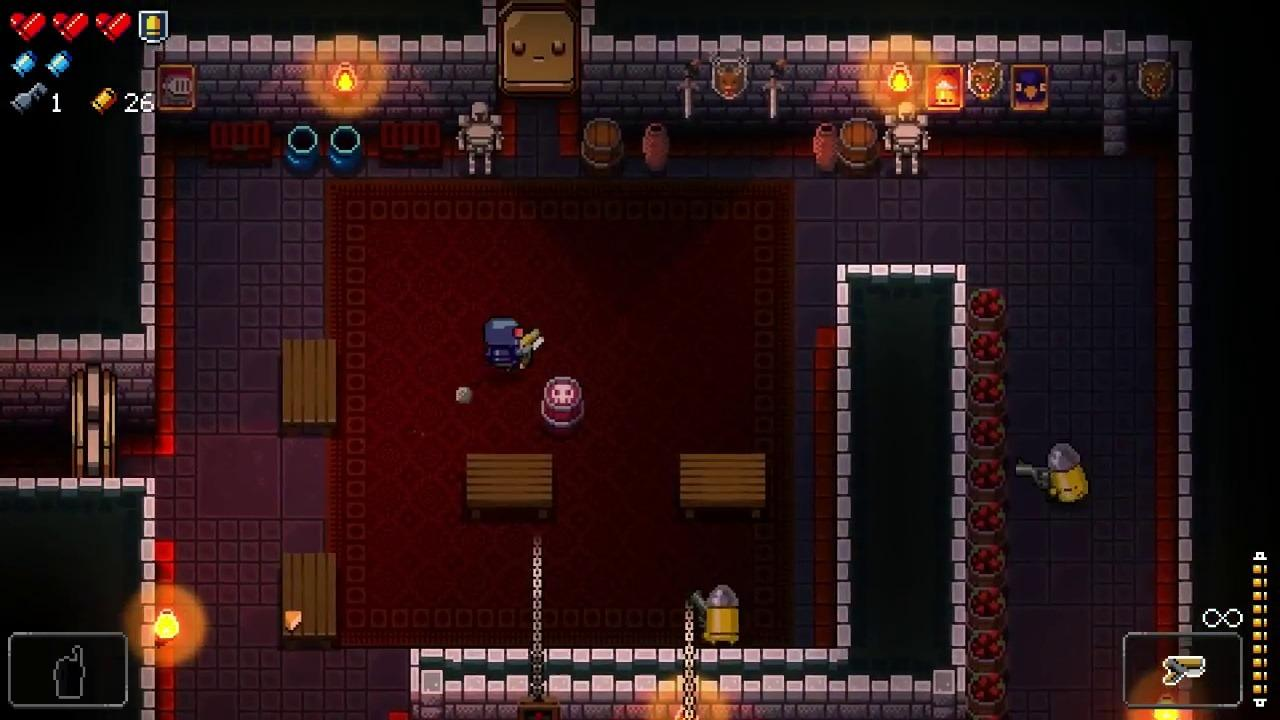bullet_kin: (1046, 442, 1090, 503), (704, 583, 740, 645)
explosive_barrel: (540, 375, 585, 438)
locked_door: (497, 0, 580, 98), (72, 362, 116, 479)
player: (481, 315, 530, 376)
table: (466, 453, 552, 519), (679, 453, 765, 518), (282, 338, 336, 436), (282, 552, 336, 650)
